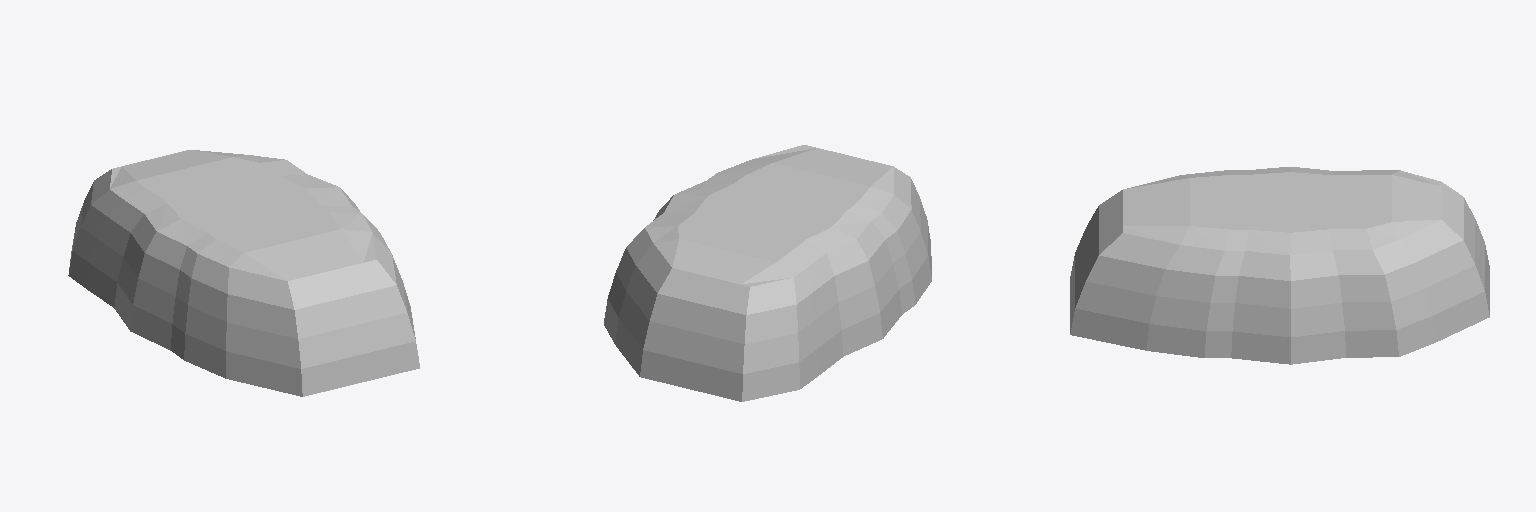
The model's file is hill1.obj.
3 renders of one model, left to right at view 1: azimuth 30°, elevation 25°; view 2: azimuth 150°, elevation 25°; view 3: azimuth 270°, elevation 25°, orthographic.
Parts seen in each view (by area): view 1: mesh01; view 2: mesh01; view 3: mesh01.
Boxes of the visible parts, box(x1,y1,x2,y2) form: mesh01: box(68, 150, 419, 396); mesh01: box(604, 145, 931, 401); mesh01: box(1070, 167, 1489, 364).
Size of the model in its own units: 2598 by 1033 by 3928.